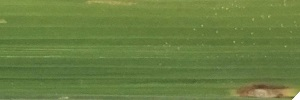RiceBlast: (229, 79, 293, 100)
